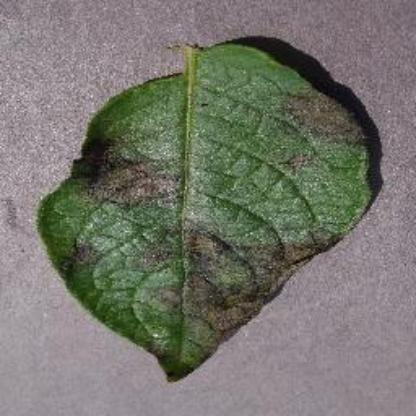Late-Blight: (36, 38, 376, 384)
